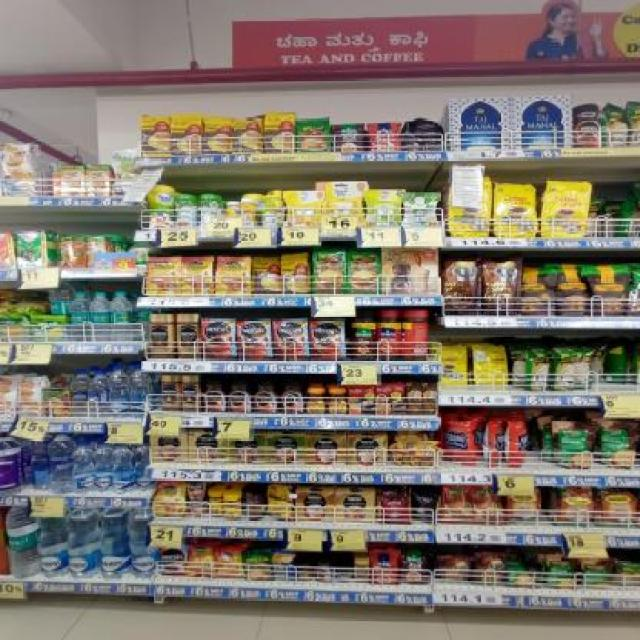Coffee: (214, 258, 249, 296), (202, 319, 236, 358), (274, 319, 308, 358), (180, 257, 212, 298), (146, 258, 179, 296), (311, 320, 344, 358), (238, 319, 270, 358), (150, 314, 173, 358), (177, 315, 200, 359), (157, 481, 185, 517), (188, 543, 214, 575), (280, 381, 303, 414), (253, 380, 276, 412), (216, 549, 242, 577), (228, 380, 250, 412), (204, 380, 225, 411), (160, 548, 184, 574), (162, 377, 180, 411), (182, 377, 200, 411), (305, 388, 324, 414), (328, 388, 347, 414), (354, 559, 369, 581), (316, 560, 330, 582), (336, 570, 350, 581)
